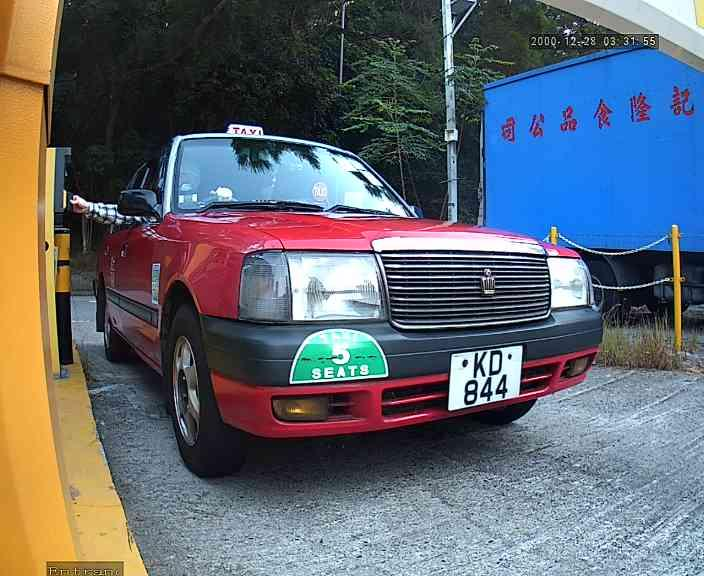Car: (70, 31, 617, 487)
License Plate: (444, 343, 525, 409)
